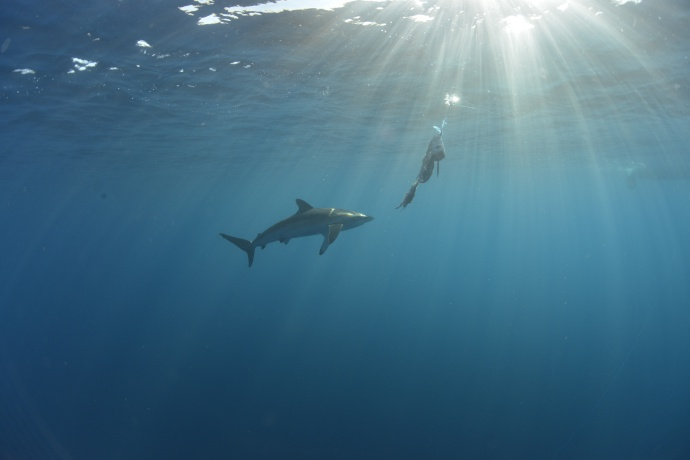Sedoso: (213, 192, 379, 272)
